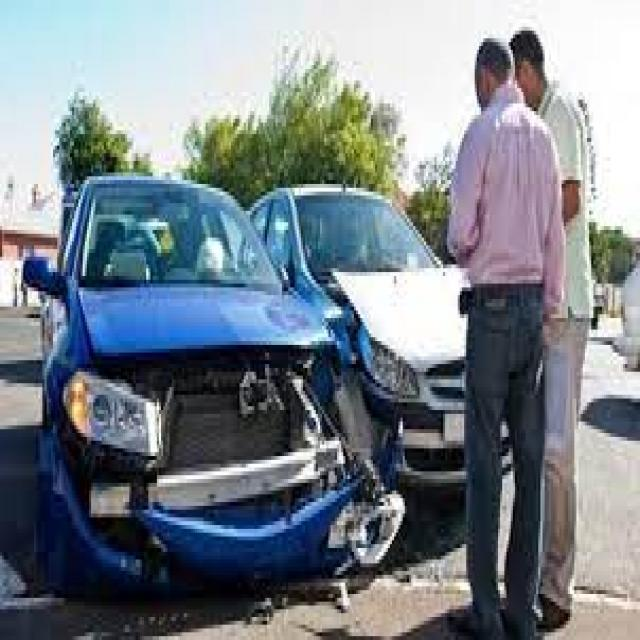moderate: (91, 283, 451, 562)
